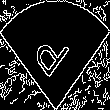P_SW: (33, 25, 77, 85)
